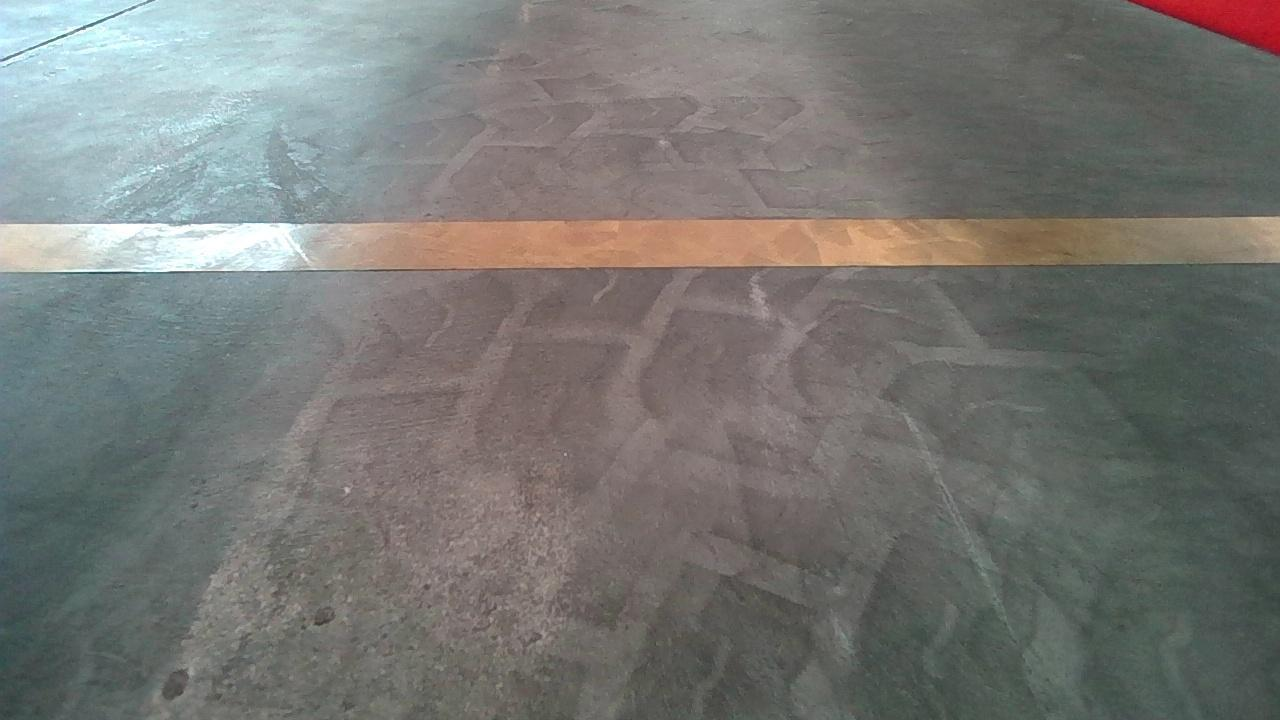yellow_line: (14, 208, 1280, 271)
